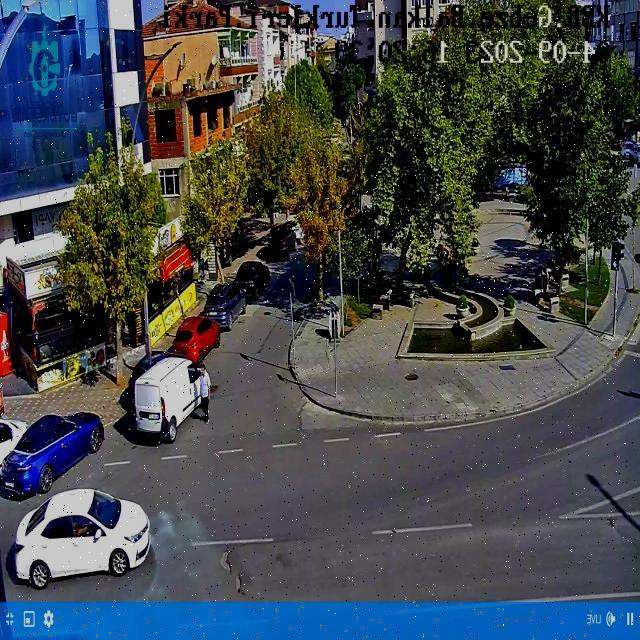Car: (13, 489, 150, 590), (1, 413, 106, 496), (171, 316, 219, 363), (198, 285, 246, 331), (0, 417, 30, 479), (234, 261, 271, 299), (266, 222, 300, 257), (620, 141, 639, 164)
Van: (131, 354, 211, 442)
